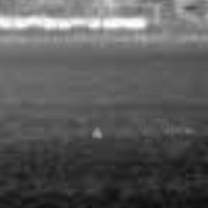Target: (91, 126, 103, 139)
